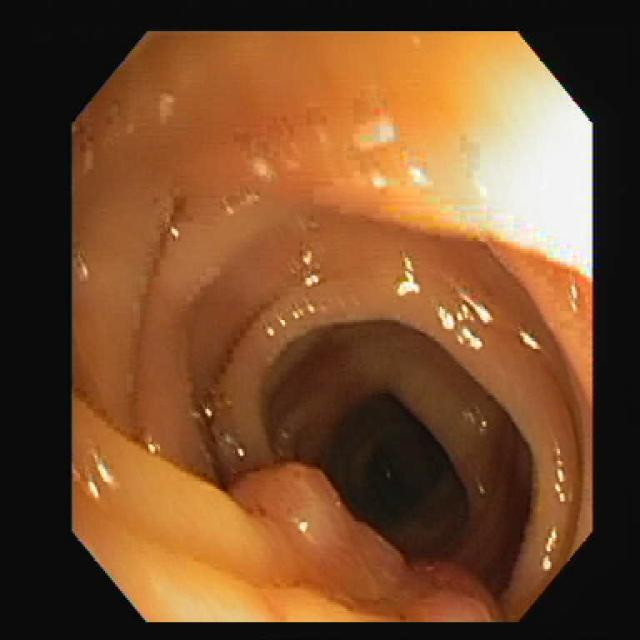tumor: (235, 462, 497, 618)
